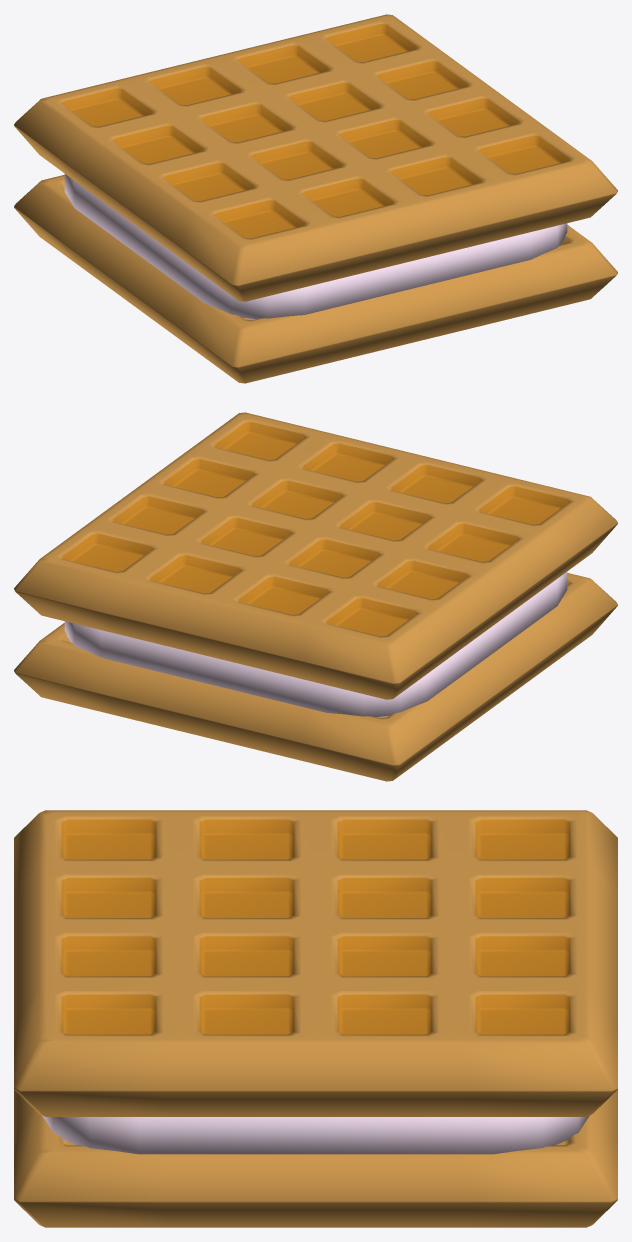
Rendered from WaffleStandart.fbx.
3 renders of one model, top to bottom at view 1: azimuth 30°, elevation 25°; view 2: azimuth 150°, elevation 25°; view 3: azimuth 270°, elevation 25°, orthographic. The views are drawn at different scales.
Parts seen in each view (by area): view 1: Cube.003; view 2: Cube.003; view 3: Cube.003.
Part boxes in pixels (x1,y1,x2,y2): Cube.003: [14, 14, 617, 383]; Cube.003: [14, 412, 617, 781]; Cube.003: [14, 810, 617, 1227].
Bounding box in the file's own units: 219 × 219 × 74.15.
